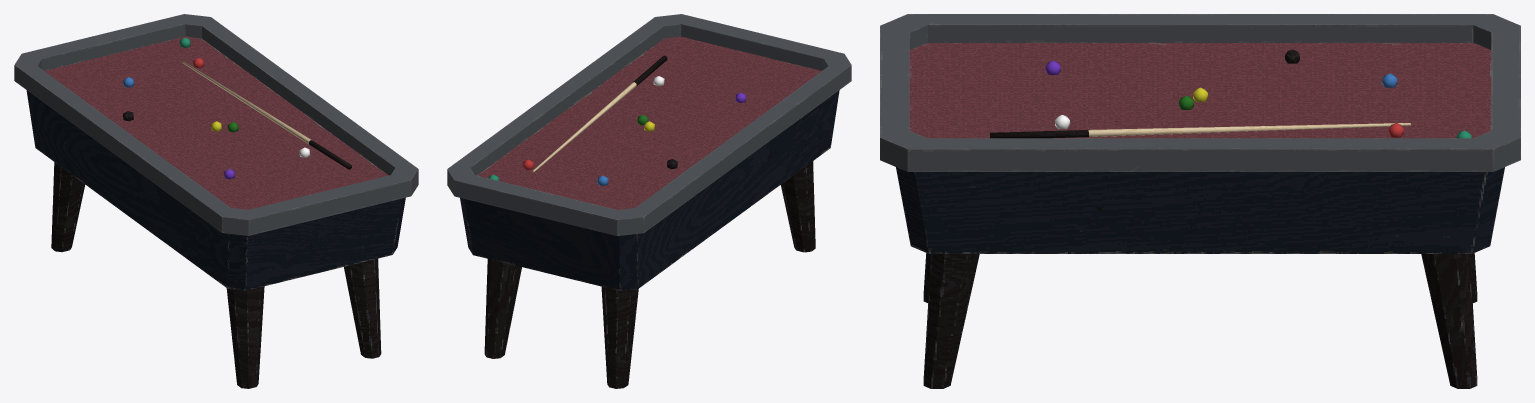
File: pooltable.glb
The picture shows the model from 3 angles, left to right: view 1: azimuth 30°, elevation 25°; view 2: azimuth 150°, elevation 25°; view 3: azimuth 270°, elevation 25°; orthographic projection. The views are drawn at different scales.
Visible parts, largest first — view 1: PoolTable-col; view 2: PoolTable-col; view 3: PoolTable-col.
Boxes of the visible parts, x1,y1,x2,y2 form: PoolTable-col: [14, 14, 418, 388]; PoolTable-col: [447, 14, 851, 388]; PoolTable-col: [880, 14, 1520, 388].
Size of the model in its own units: 3 by 2.68 by 6.
Materials: 1 (1 with a texture image).
